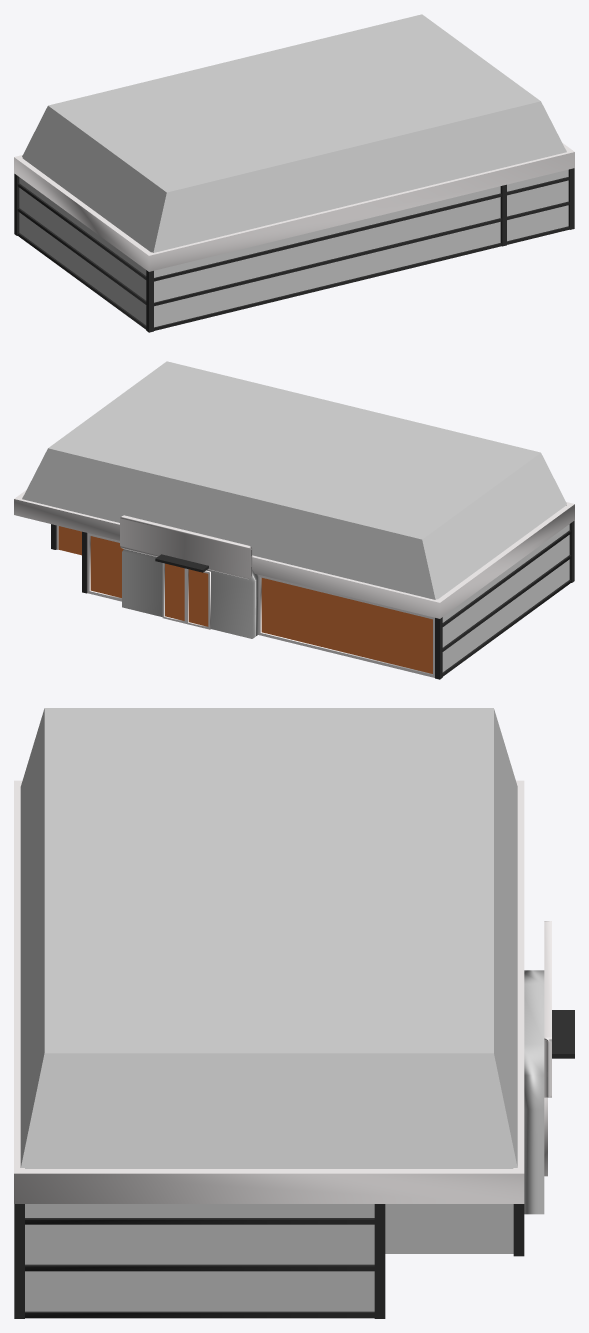
Rendered from Convenience Stores(3).glb.
3 renders of one model, top to bottom at view 1: azimuth 30°, elevation 25°; view 2: azimuth 150°, elevation 25°; view 3: azimuth 270°, elevation 25°, orthographic. The views are drawn at different scales.
Parts seen in each view (by area): view 1: Root; view 2: Root; view 3: Root.
Boxes of the visible parts, x1,y1,x2,y2 form: Root: (14,14,574,332); Root: (14,361,574,679); Root: (14,708,574,1318).
Size of the model in its own units: 18.23 by 5.23 by 11.
